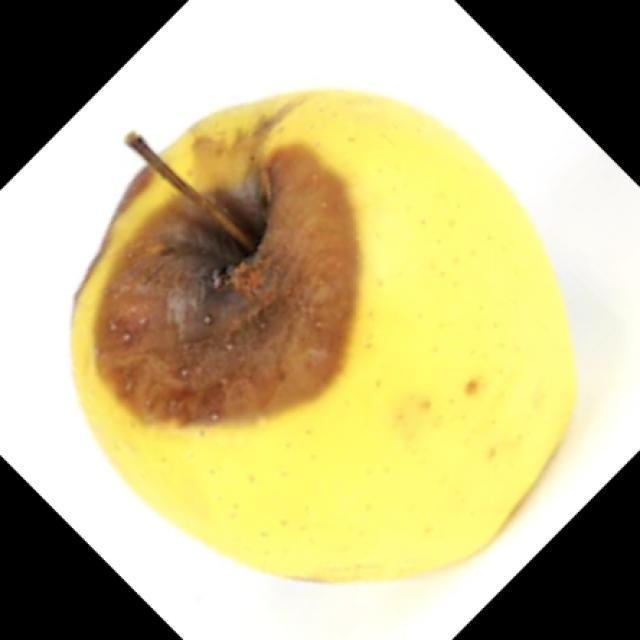Rotten: (104, 115, 548, 540)
